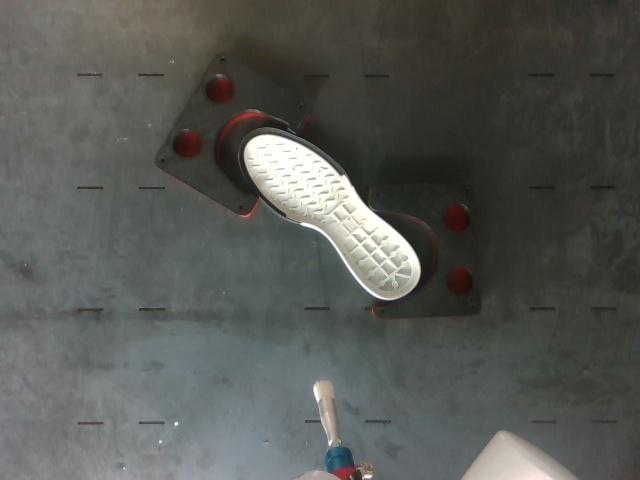shoes: (239, 128, 420, 298)
